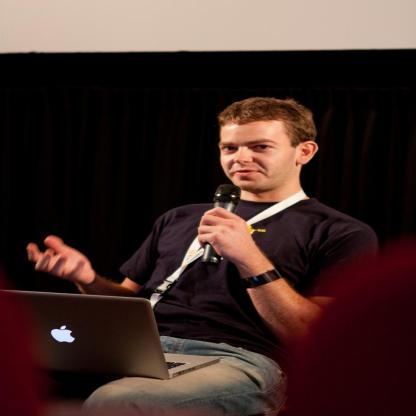board: (2, 288, 220, 379)
